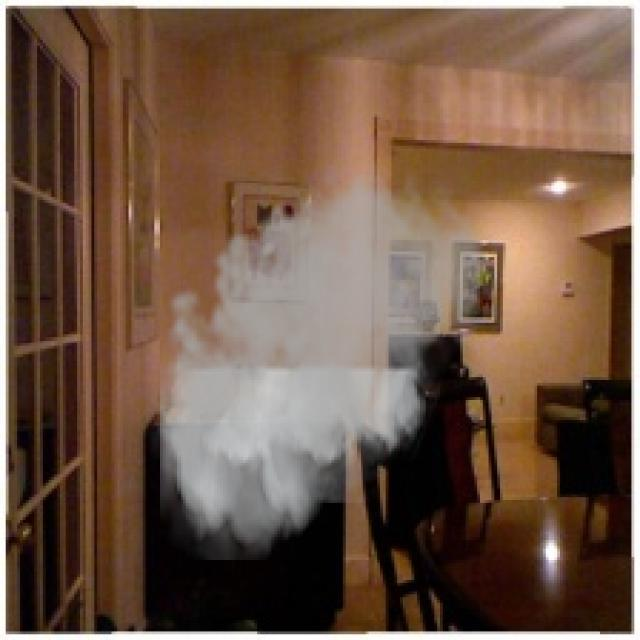Smoke: (146, 155, 492, 560)
